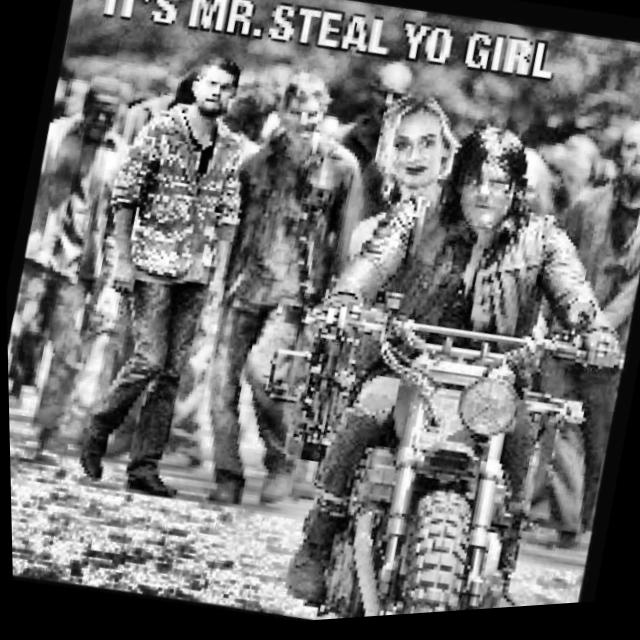motorcycle: (237, 251, 625, 628)
